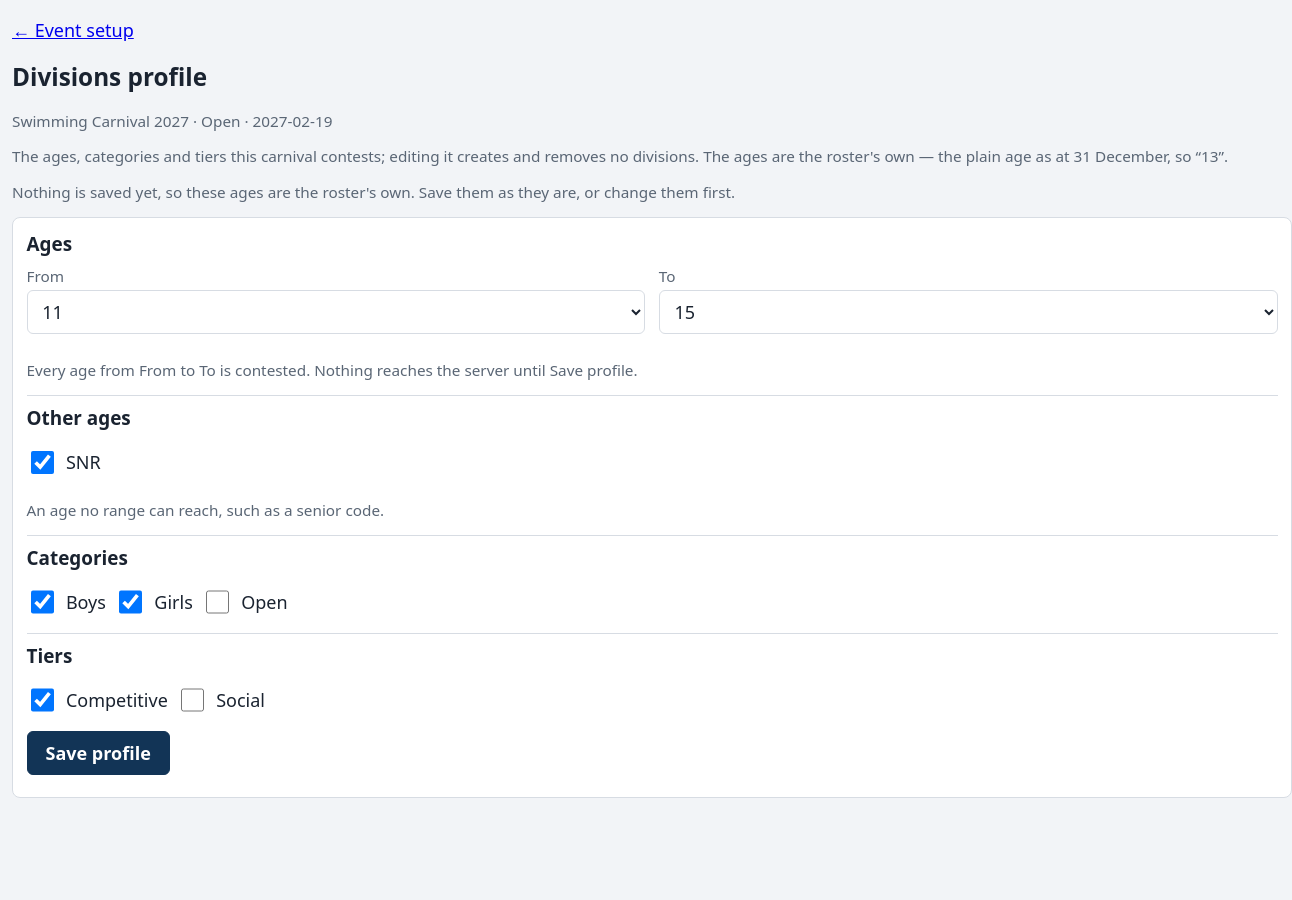
DivisionsProfileScreen — the ages come from the roster › names the roster ages the selection leaves out, and says nothing once none are
expect the text "Roster ages not contested" is not shown: met
Step 1. Select "12" in the dropdown labelled "From" → (336, 312), box top-left (26, 290), bottom-right (645, 334)
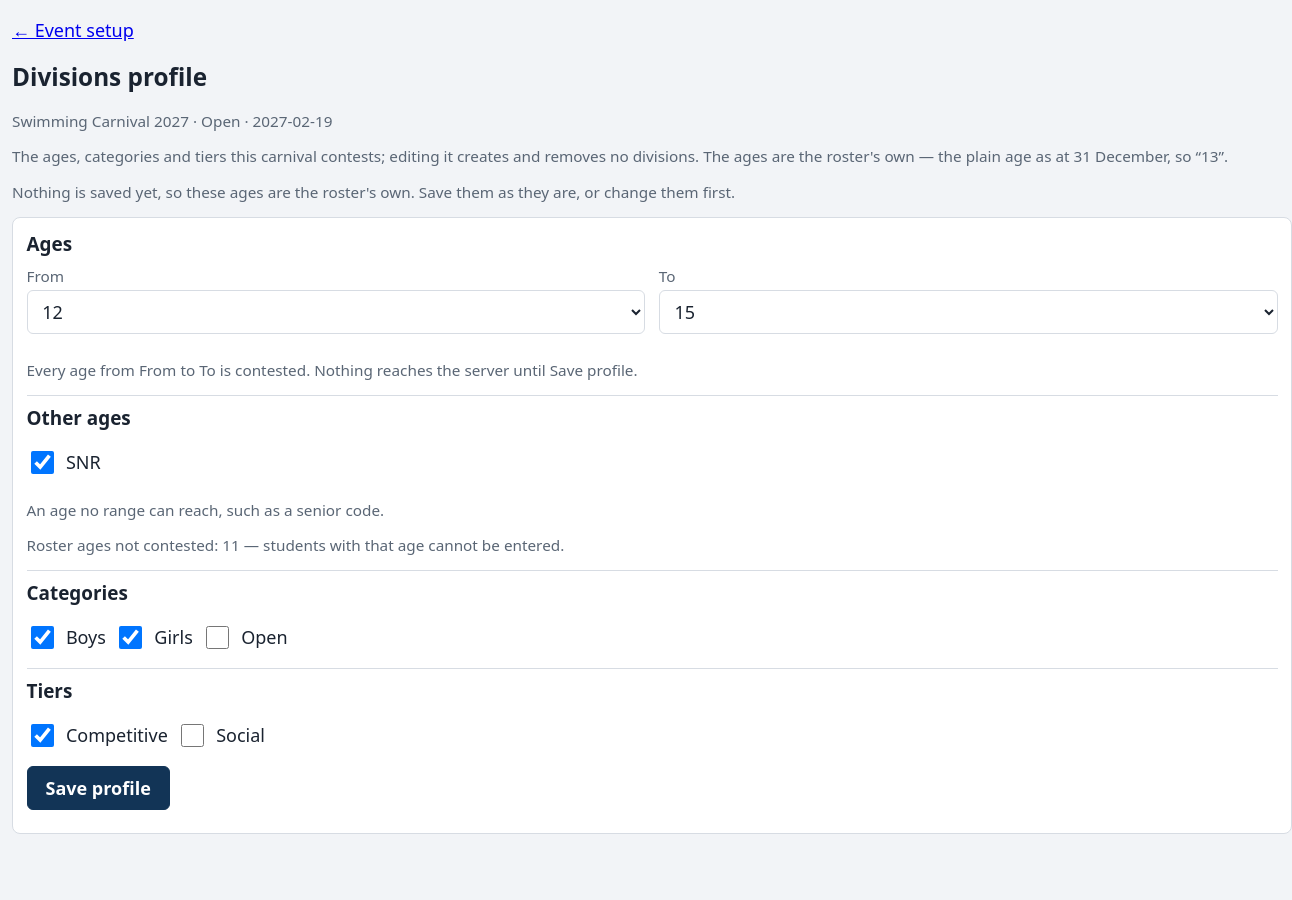
expect the text "Roster ages not contested: 11" shows "cannot be entered": met, box top-left (240, 535), bottom-right (564, 555)
Step 2. Click the checkbox labelled "SNR" → (42, 462), box top-left (30, 451), bottom-right (54, 474)
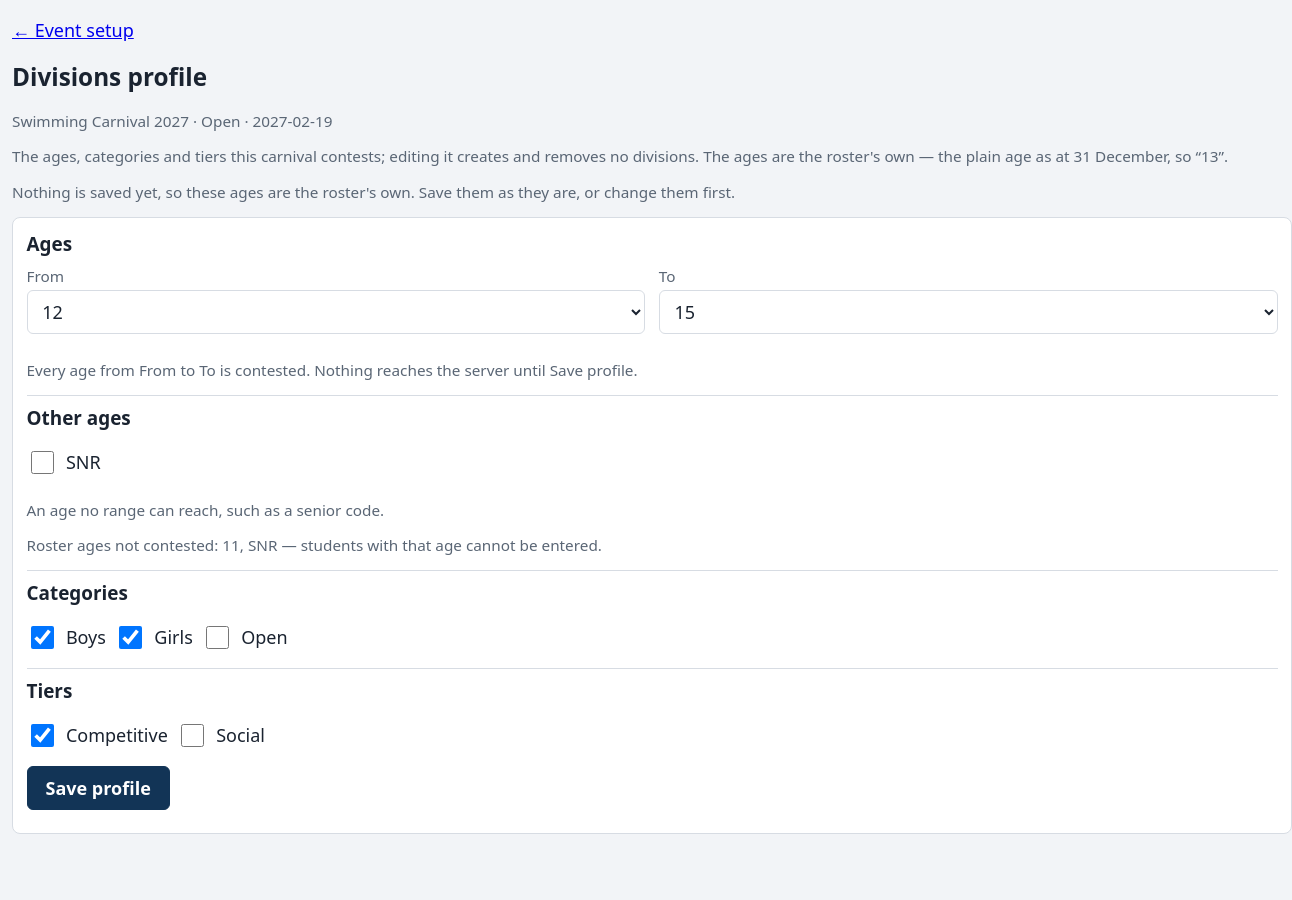
expect the text "Roster ages not contested: 11, SNR" is shown: met, box top-left (26, 535), bottom-right (602, 555)
